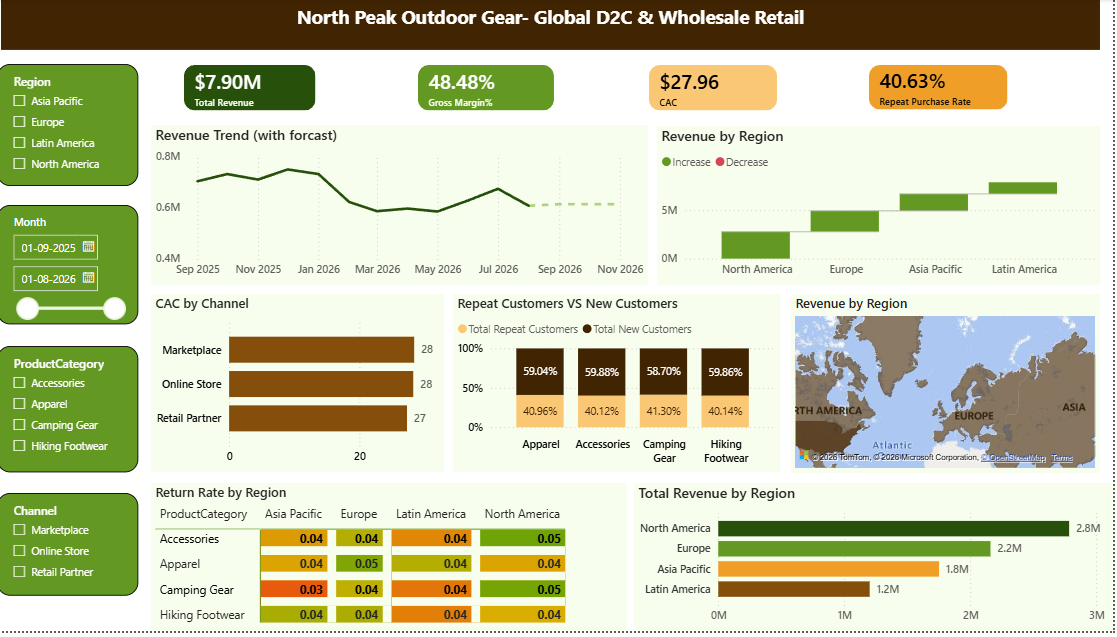

What the dashboard file says about the page in this screenshot:
{"tool":"powerbi","page":{"name":"Dashboard","canvas":[1280,720],"ordinal":1},"visuals":[{"type":"cardVisual","fields":{"Data":["NorthPeak_Raw SalesData.Total Revenue"]},"box":[205.1,58.1,184.6,86.6],"z":0},{"type":"cardVisual","fields":{"Data":["NorthPeak_Raw SalesData.Gross Margin%"]},"box":[471.6,58.1,189.1,86.6],"z":1000},{"type":"cardVisual","fields":{"Data":["NorthPeak_Raw SalesData.CAC"]},"box":[734.8,58.1,180,86.6],"z":2000},{"type":"cardVisual","fields":{"Data":["NorthPeak_Raw SalesData.Repeat Purchase Rate"]},"box":[985.4,58.1,192.5,85.4],"z":3000},{"type":"lineChart","title":"Revenue Trend (with forcast)","fields":{"Category":["NorthPeak_Raw SalesData.Month.Variation.Date Hierarchy.Year","NorthPeak_Raw SalesData.Month.Variation.Date Hierarchy.Month"],"Y":["NorthPeak_Raw SalesData.Total Revenue"]},"box":[184.6,143.5,566.2,182.3],"z":4000},{"type":"waterfallChart","title":"Revenue by Region","fields":{"Category":["NorthPeak_Raw SalesData.Region"],"Y":["NorthPeak_Raw SalesData.Total Revenue"]},"box":[761,144.7,504.7,181.1],"z":5000},{"type":"slicer","fields":{"Values":["NorthPeak_Raw SalesData.Region"]},"box":[9.1,74.1,160.6,139],"z":6000},{"type":"slicer","fields":{"Values":["NorthPeak_Raw SalesData.Month"]},"box":[9.1,234.7,160.6,135.6],"z":7000},{"type":"slicer","fields":{"Values":["NorthPeak_Raw SalesData.Channel"]},"box":[9.1,562.8,160.6,117.3],"z":8000},{"type":"slicer","fields":{"Values":["NorthPeak_Raw SalesData.ProductCategory"]},"box":[9.1,395.3,160.6,143.5],"z":9000},{"type":"textbox","box":[13.7,0,1252,58.1],"z":10000},{"type":"clusteredBarChart","fields":{"Category":["NorthPeak_Raw SalesData.Channel"],"Y":["NorthPeak_Raw SalesData.CAC"]},"box":[184.6,336.1,333.8,202.8],"z":11000},{"type":"hundredPercentStackedColumnChart","title":"Repeat Customers VS New Customers","fields":{"Y":["NorthPeak_Raw SalesData.Total Repeat Customers","NorthPeak_Raw SalesData.Total New Customers"],"Category":["NorthPeak_Raw SalesData.ProductCategory"]},"box":[528.6,336.1,372.5,202.8],"z":12000},{"type":"filledMap","title":"Revenue by Region","fields":{"Category":["NorthPeak_Raw SalesData.Region"]},"box":[913.7,336.1,350.9,202.8],"z":13000},{"type":"pivotTable","title":"Return Rate by Region","fields":{"Rows":["NorthPeak_Raw SalesData.ProductCategory"],"Columns":["NorthPeak_Raw SalesData.Region"],"Values":["NorthPeak_Raw SalesData.Return Rate"]},"box":[184.6,551.4,542.3,168.6],"z":14000},{"type":"clusteredBarChart","fields":{"Category":["NorthPeak_Raw SalesData.Region"],"Y":["NorthPeak_Raw SalesData.Total Revenue"]},"box":[734.8,551.4,545.7,168.6],"z":15000}]}

Visuals, with their boxes in screenshot pixels (x1, y1, x2, y2), scaled from the page's 1280x720 canvas onto the 1117x637 screenshot:
cardVisual - NorthPeak_Raw SalesData.Total Revenue: BBox(179, 51, 340, 128)
cardVisual - NorthPeak_Raw SalesData.Gross Margin%: BBox(412, 51, 577, 128)
cardVisual - NorthPeak_Raw SalesData.CAC: BBox(641, 51, 798, 128)
cardVisual - NorthPeak_Raw SalesData.Repeat Purchase Rate: BBox(860, 51, 1028, 127)
"Revenue Trend (with forcast)" lineChart: BBox(161, 127, 655, 288)
"Revenue by Region" waterfallChart: BBox(664, 128, 1105, 288)
slicer - NorthPeak_Raw SalesData.Region: BBox(8, 66, 148, 189)
slicer - NorthPeak_Raw SalesData.Month: BBox(8, 208, 148, 328)
slicer - NorthPeak_Raw SalesData.Channel: BBox(8, 498, 148, 602)
slicer - NorthPeak_Raw SalesData.ProductCategory: BBox(8, 350, 148, 477)
textbox: BBox(12, 0, 1105, 51)
clusteredBarChart - NorthPeak_Raw SalesData.Channel x NorthPeak_Raw SalesData.CAC: BBox(161, 297, 452, 477)
"Repeat Customers VS New Customers" hundredPercentStackedColumnChart: BBox(461, 297, 786, 477)
"Revenue by Region" filledMap: BBox(797, 297, 1104, 477)
"Return Rate by Region" pivotTable: BBox(161, 488, 634, 636)
clusteredBarChart - NorthPeak_Raw SalesData.Region x NorthPeak_Raw SalesData.Total Revenue: BBox(641, 488, 1116, 636)
